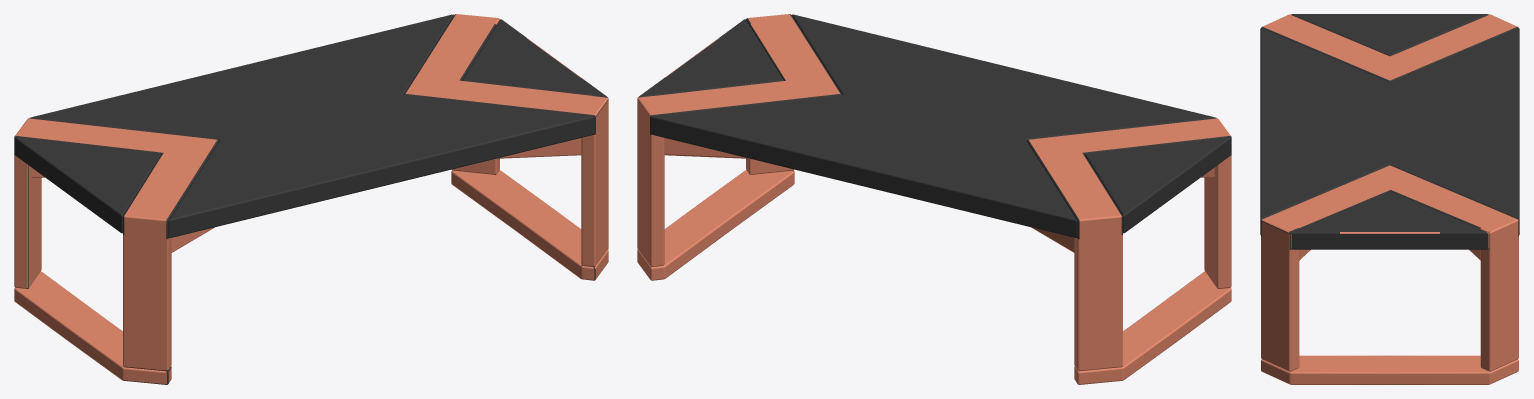
Rendered from modern_coffee_table_01_4k.glb.
3 renders of one model, left to right at view 1: azimuth 30°, elevation 25°; view 2: azimuth 150°, elevation 25°; view 3: azimuth 270°, elevation 25°, orthographic. The views are drawn at different scales.
Parts seen in each view (by area): view 1: modern_coffee_table_01; view 2: modern_coffee_table_01; view 3: modern_coffee_table_01.
Part boxes in pixels (x1,y1,x2,y2): modern_coffee_table_01: (14,14,608,384); modern_coffee_table_01: (637,14,1231,384); modern_coffee_table_01: (1260,14,1519,384).
Bounding box in the file's own units: 1.2 × 0.39 × 0.6.
